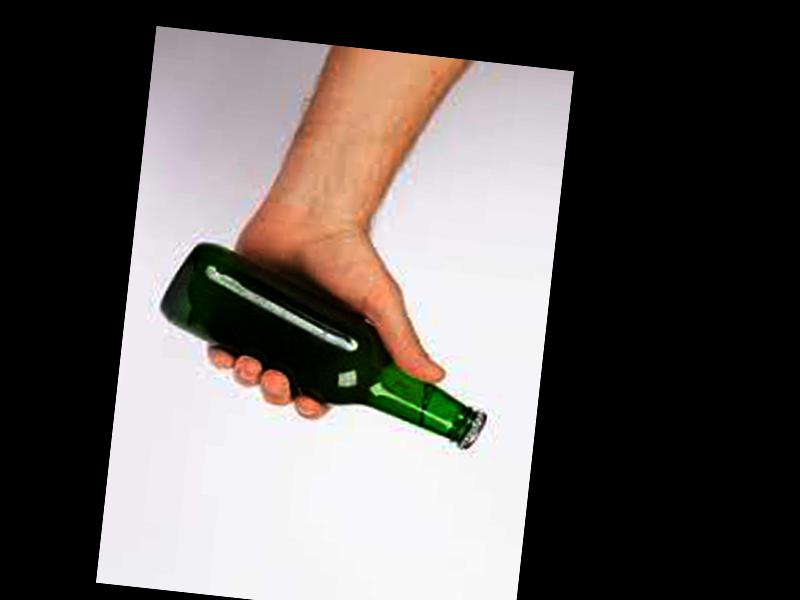Beer: (152, 239, 503, 449)
